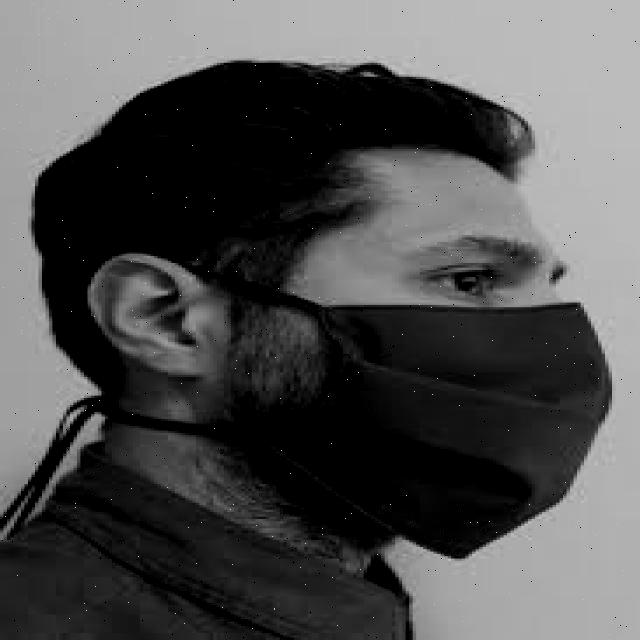fake: (239, 302, 616, 558)
real: (281, 146, 562, 537)
